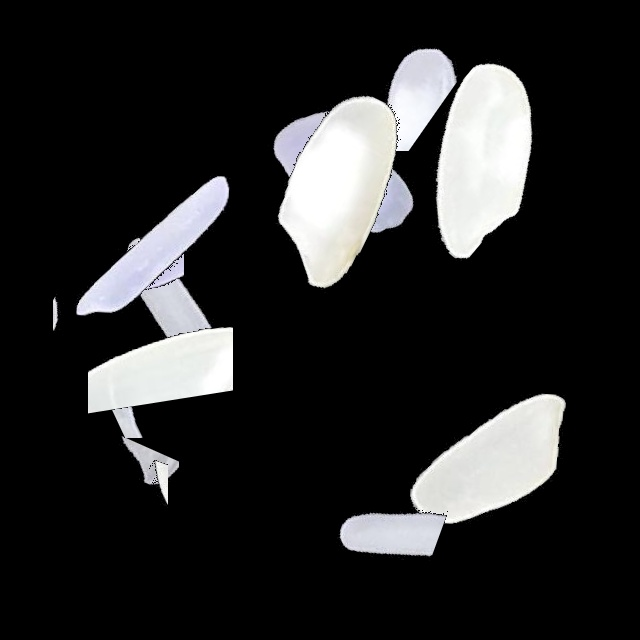Broken: (239, 441, 489, 594), (88, 203, 233, 453), (249, 20, 499, 151), (28, 349, 278, 438), (95, 363, 179, 613), (86, 368, 168, 618), (103, 126, 184, 376), (53, 184, 130, 434)
Full: (353, 33, 603, 283), (206, 22, 456, 272), (49, 172, 299, 422), (361, 331, 611, 581), (235, 63, 485, 313), (212, 65, 462, 315), (29, 122, 279, 372)
